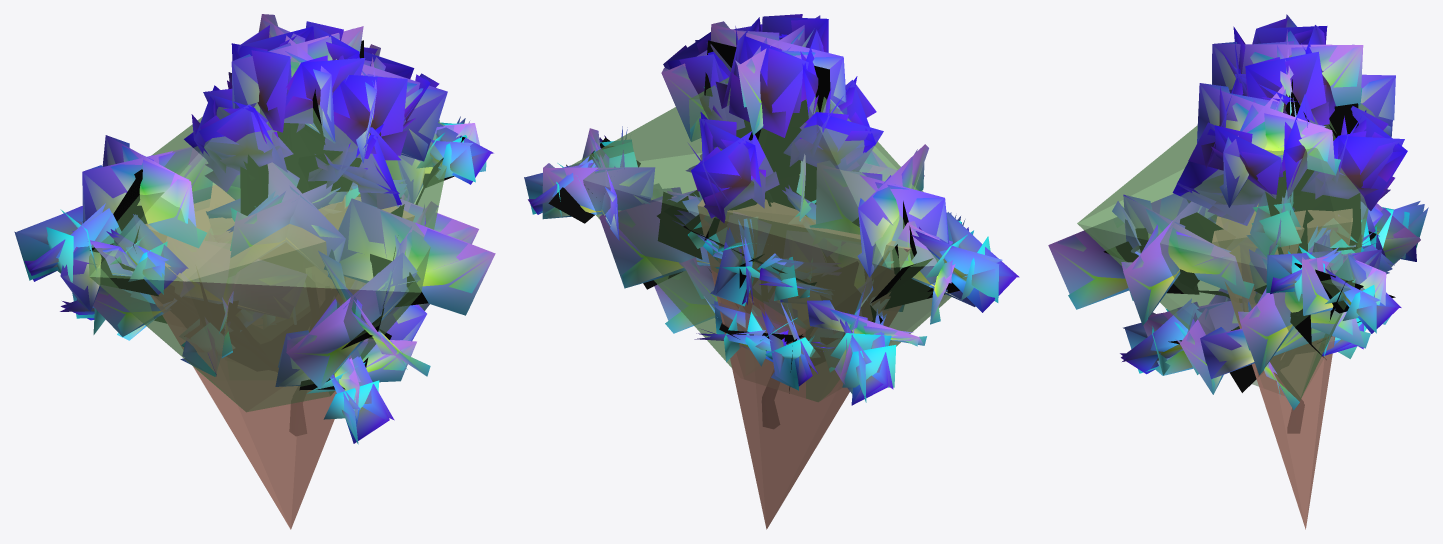
File: cork_oak_bush_large.dae
3 views of the same model, side by side, from view 1: azimuth 30°, elevation 25°; view 2: azimuth 150°, elevation 25°; view 3: azimuth 270°, elevation 25° (orthographic).
Parts seen in each view (by area): view 1: Colmesh-1, cork_oak_bush_large_a650, cork_oak_bush_large_a140; view 2: Colmesh-1, cork_oak_bush_large_a140, cork_oak_bush_large_a650; view 3: cork_oak_bush_large_a140, cork_oak_bush_large_a650, Colmesh-1.
Boxes of the visible parts, x1,y1,x2,y2 form: Colmesh-1: (89,57,446,529); cork_oak_bush_large_a650: (14,14,495,443); cork_oak_bush_large_a140: (16,14,494,443); Colmesh-1: (568,48,951,529); cork_oak_bush_large_a140: (524,15,1016,422); cork_oak_bush_large_a650: (524,14,1019,428); cork_oak_bush_large_a140: (1048,16,1424,430); cork_oak_bush_large_a650: (1050,14,1428,432); Colmesh-1: (1077,55,1374,529).
Bounding box in the file's own units: 7.05 × 5.01 × 7.14.
